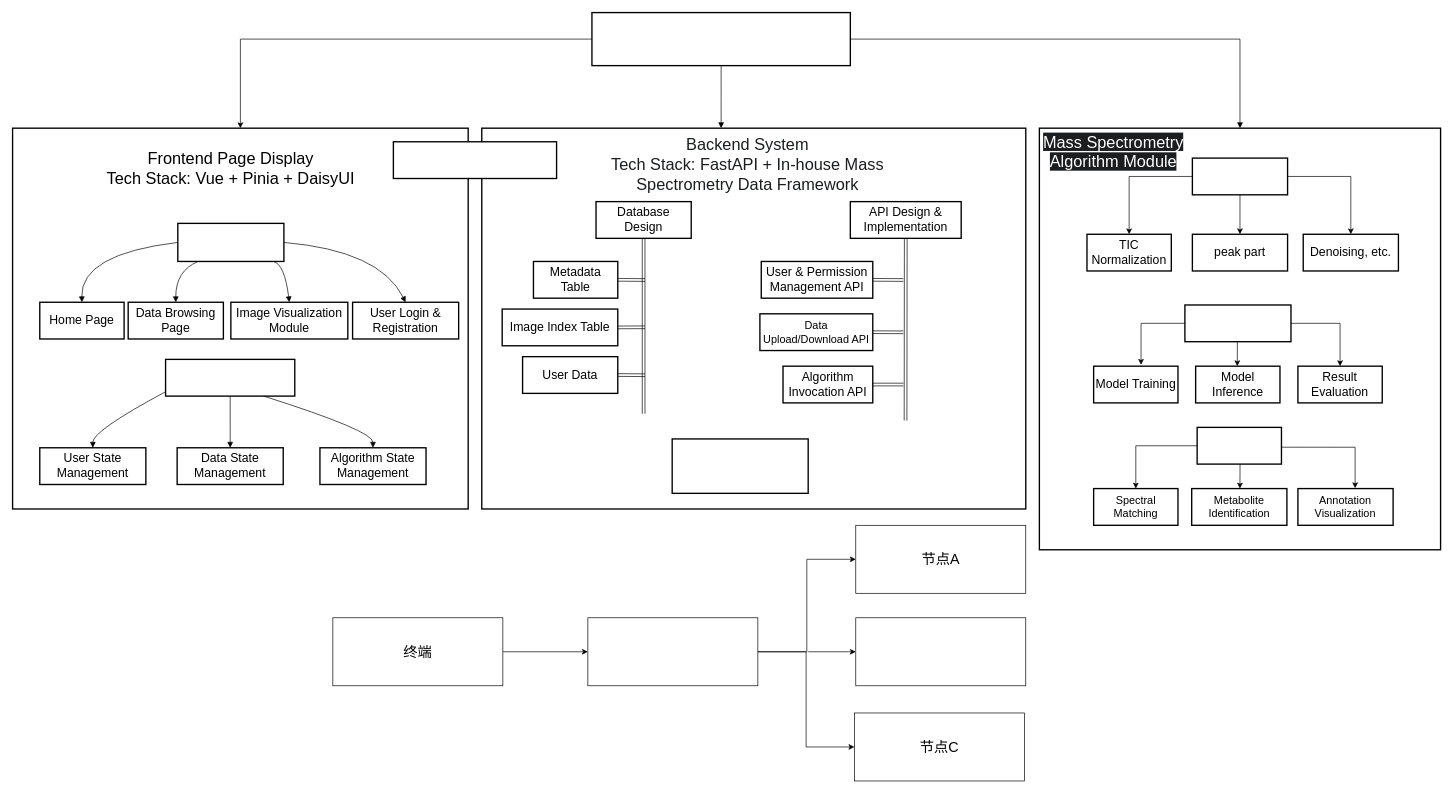
The diagram is 1452 pixels wide and 793 high, and some of its shapes have lost their labels. The shapes that lost their labels are listed below. From the top down, each one's centre as x and y in pixels, then its label:
At pixel 721 39: "Online Spatial Metabolomics Database".
At pixel 474 160: "API Integration and Testing".
At pixel 1239 176: "Data Preprocessing".
At pixel 230 242: "Page Module Development (Vue + DaisyUI)".
At pixel 1237 323: "Super-Resolution Reconstruction".
At pixel 230 377: "State Management (Pinia)".
At pixel 1239 445: "Molecular Annotation".
At pixel 740 466: "Deployment & Performance Optimization".
At pixel 672 651: "反向代理，负载均衡".
At pixel 940 651: "节点B".
